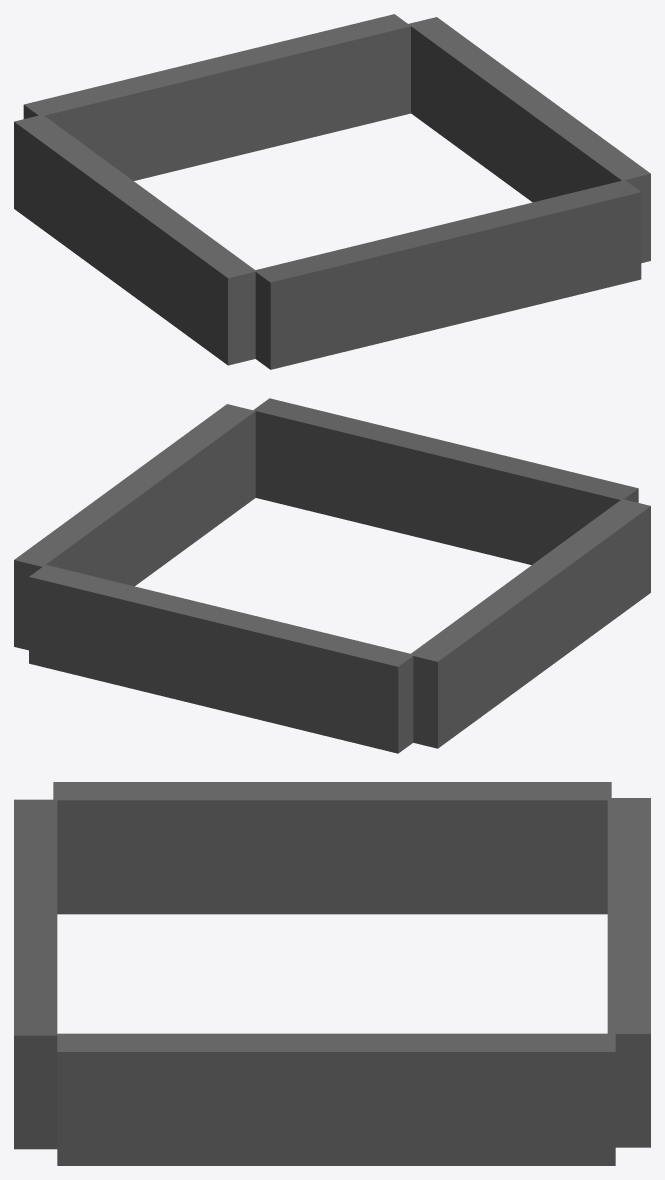
The model's file is sala1.glb.
3 renders of one model, top to bottom at view 1: azimuth 30°, elevation 25°; view 2: azimuth 150°, elevation 25°; view 3: azimuth 270°, elevation 25°, orthographic. The views are drawn at different scales.
Parts seen in each view (by area): view 1: Cubo.003, Cubo.001, Cubo.008, Cubo.002; view 2: Cubo.001, Cubo.003, Cubo.008, Cubo.002; view 3: Cubo.002, Cubo.008, Cubo.003, Cubo.001.
Part boxes in pixels (box(x1,y1,x2,y2)): Cubo.003: box(254, 180, 641, 369); Cubo.001: box(23, 14, 410, 180); Cubo.008: box(14, 114, 256, 365); Cubo.002: box(408, 17, 650, 263); Cubo.001: box(29, 565, 414, 753); Cubo.003: box(253, 398, 638, 564); Cubo.008: box(411, 499, 650, 748); Cubo.002: box(14, 404, 255, 650); Cubo.002: box(57, 1033, 615, 1165); Cubo.008: box(53, 782, 611, 914); Cubo.003: box(14, 799, 57, 1149); Cubo.001: box(607, 798, 650, 1147).
Bounding box in the file's own units: 4583 × 900 × 4569.
3 materials, 3 textured.
